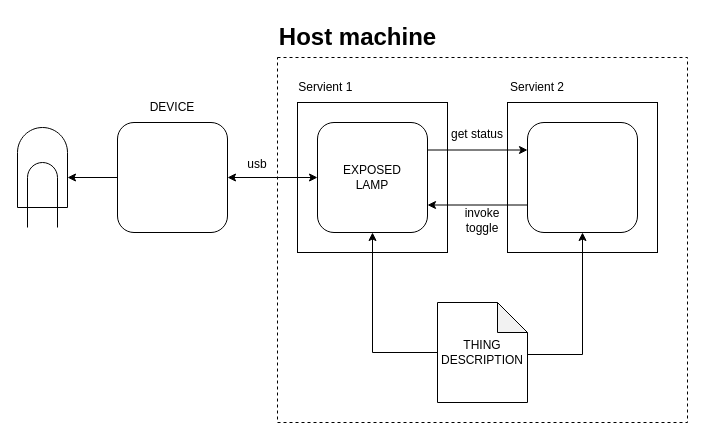
Image size: 705x440. Some labels were removed from this diagram. Here are the shapes that lost their labels. From the top down, the box of each, then its label:
(116, 122, 228, 232): Arduino Lamp Controller
(526, 122, 638, 232): CONSUMED LAMP
